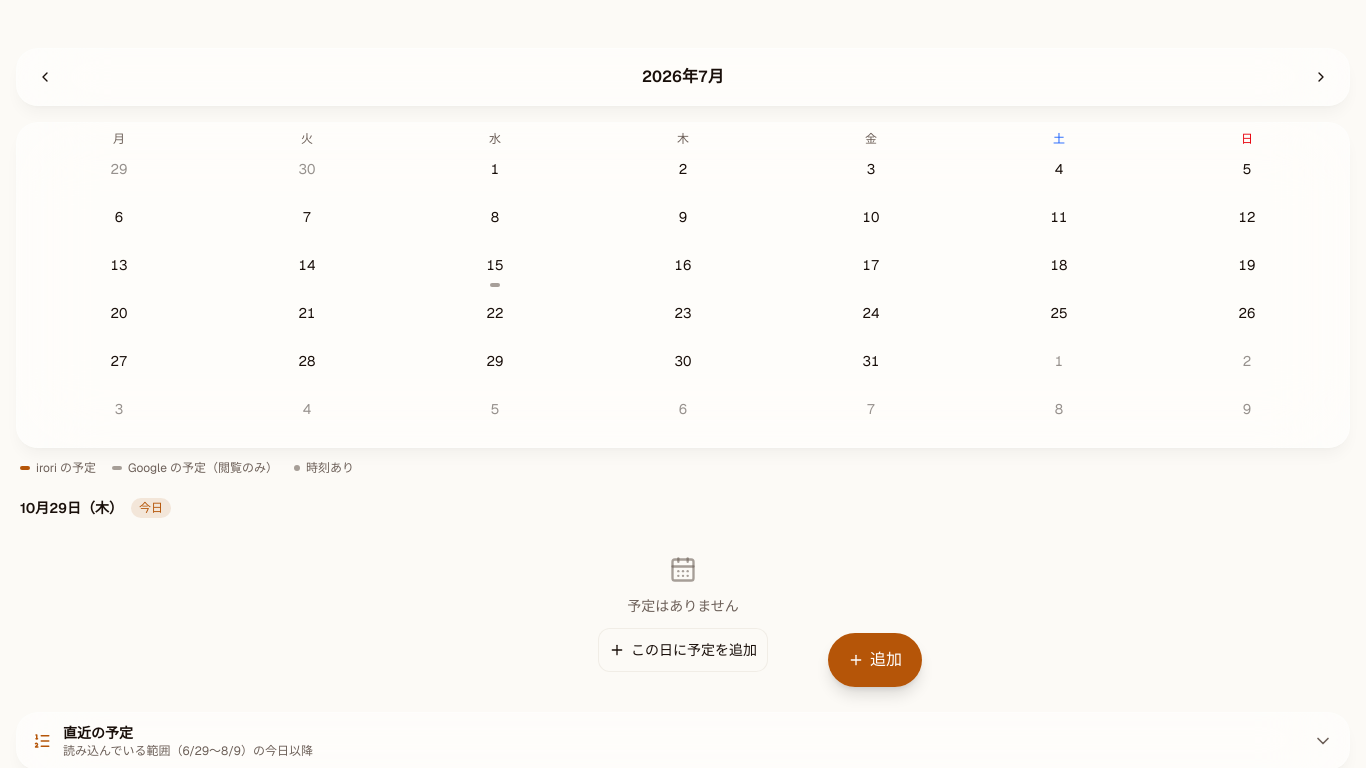
CalendarView › google 予定はタップしても read-only(更新ボタンなし・閉じるのみ)
What coordinates should you click on to do the following:
click the button "15"
I would click on:
 (495, 271)
Its box is [401,247,589,295].
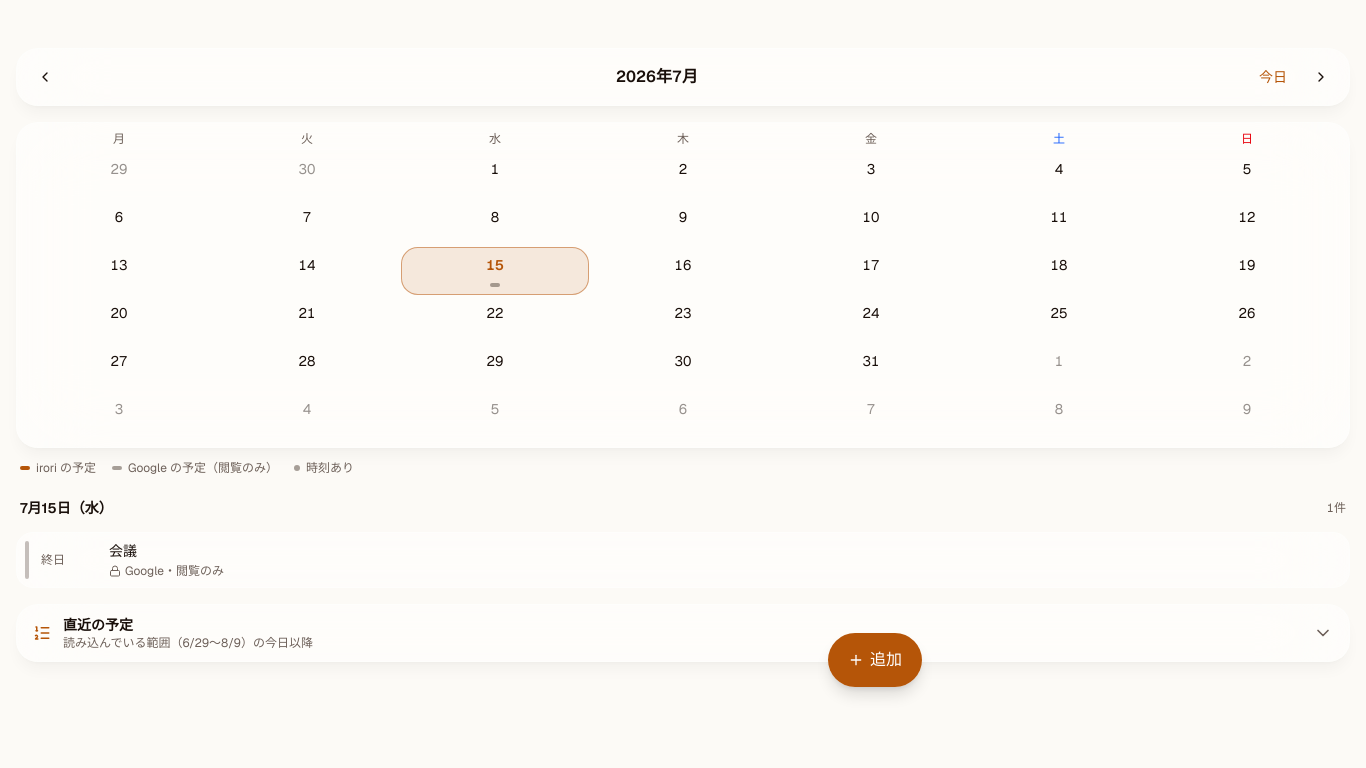
What coordinates should you click on to do the following:
click the text "会議"
I would click on:
 (123, 551)
Its box is [109,542,137,560].
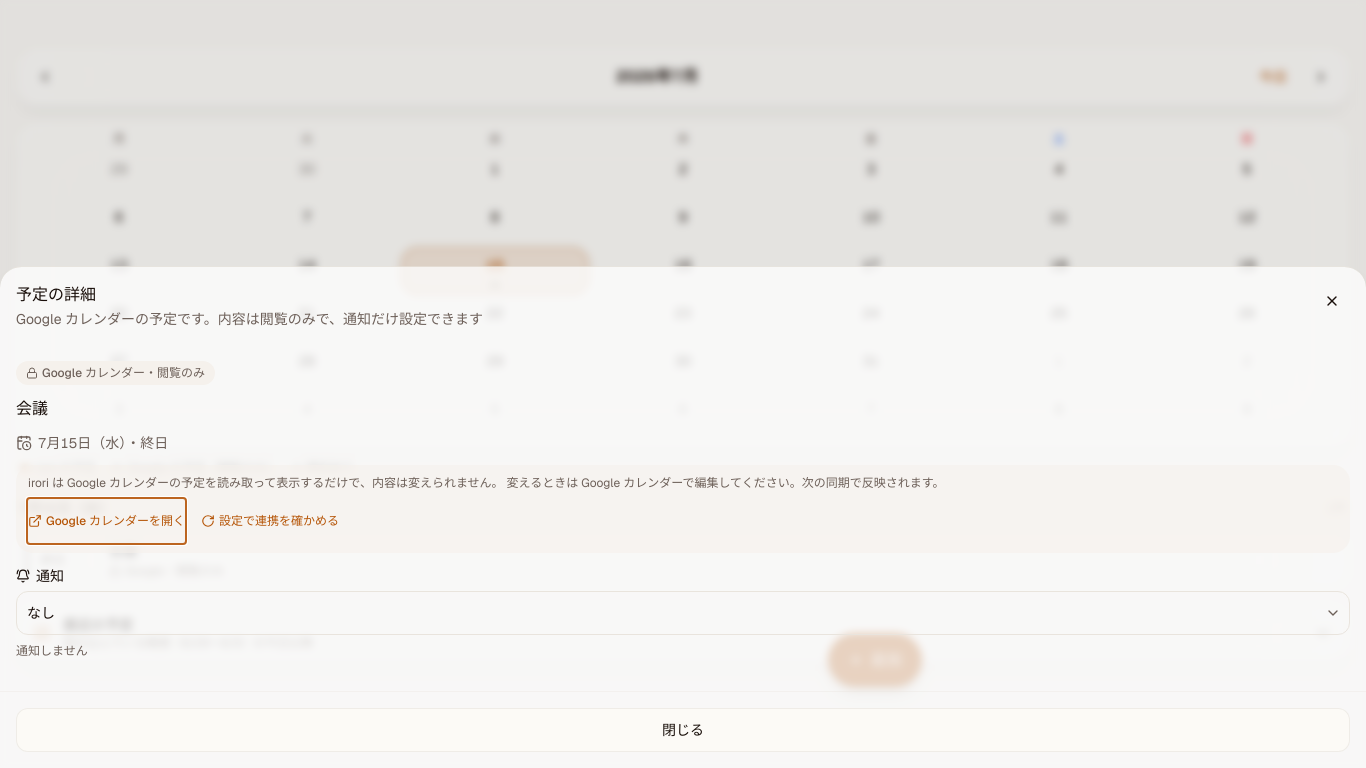
Expected: the number of buttons "閉じる" is 2, [16,708,1350,752]; [1310,279,1354,323]
